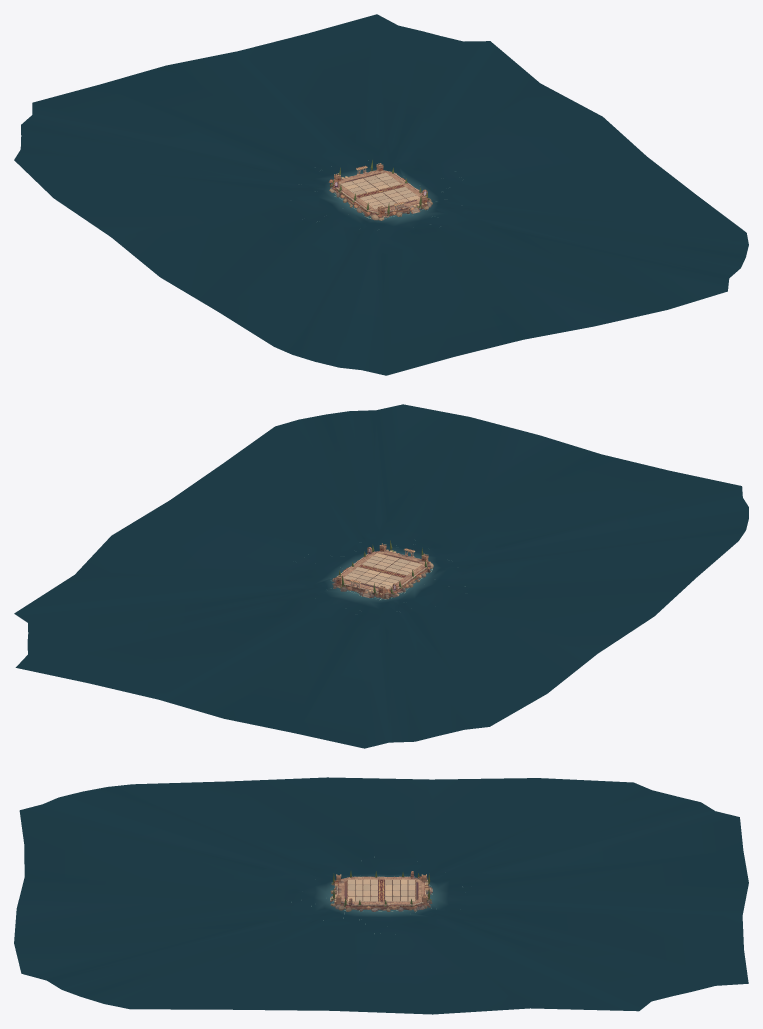
File: arena_rome.glb
3 renders of one model, top to bottom at view 1: azimuth 30°, elevation 25°; view 2: azimuth 150°, elevation 25°; view 3: azimuth 270°, elevation 25°, orthographic. The views are drawn at different scales.
Visible parts, largest first — view 1: Portrait arena with baked illumination; view 2: Portrait arena with baked illumination; view 3: Portrait arena with baked illumination.
Boxes of the visible parts, box(x1,y1,x2,y2) form: Portrait arena with baked illumination: box(14, 14, 748, 375); Portrait arena with baked illumination: box(14, 404, 748, 748); Portrait arena with baked illumination: box(14, 777, 748, 1014).
Size of the model in its own units: 124 by 4.23 by 163.
